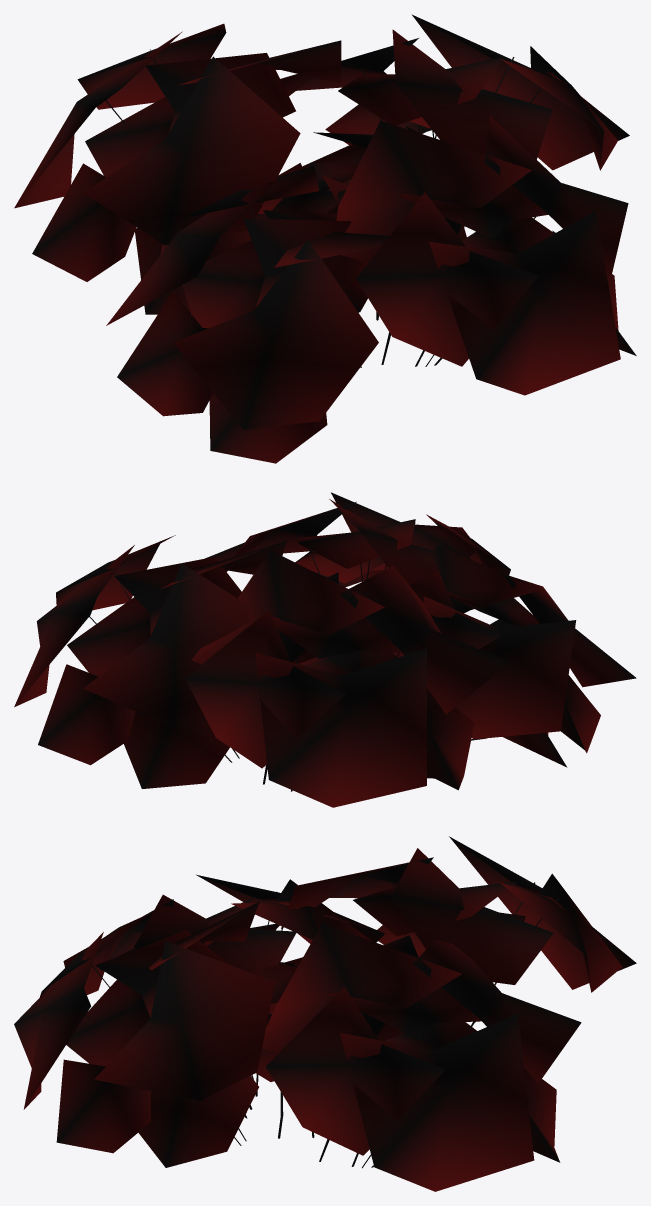
File: Bush03B.fbx
3 renders of one model, top to bottom at view 1: azimuth 30°, elevation 25°; view 2: azimuth 150°, elevation 25°; view 3: azimuth 270°, elevation 25°, orthographic. The views are drawn at different scales.
Parts seen in each view (by area): view 1: Bush03B; view 2: Bush03B; view 3: Bush03B.
Part boxes in pixels (left/top/right/bottom): Bush03B: left=14, top=14, right=636, bottom=463; Bush03B: left=14, top=492, right=636, bottom=807; Bush03B: left=14, top=836, right=636, bottom=1191.
Bounding box in the file's own units: 3.42 × 1.6 × 3.48.
